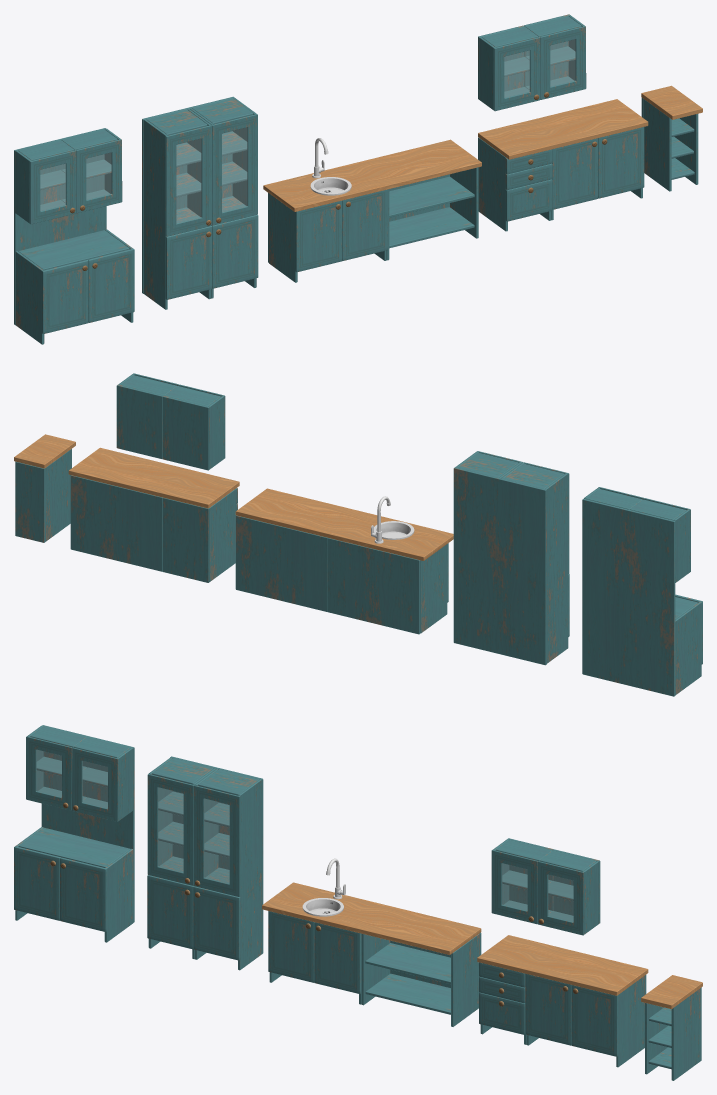
Rendered from modular_kitchen_cabinets.glb.
The picture shows the model from 3 angles, top to bottom: view 1: azimuth 30°, elevation 25°; view 2: azimuth 150°, elevation 25°; view 3: azimuth 330°, elevation 25°; orthographic projection.
Visible parts, largest first — view 1: Cabinet_FrontGlass_B.005, CabinetTable_A.004, Cabinet_FrontA.003, Cabinet_FrontA.004, Cabinet_FrontGlass_A.005, Cabinet_FrontGlass_A.006, Cabinet_FrontA.006, Cabinet_FrontA.005, CabinetTable_B.002, Cabinet_Side_A.003, Cabinet_Back_A.006, Cabinet_Shelf_A.004 (+24 smaller); view 2: Cabinet_Back_A.005, Cabinet_Back_A.006, Cabinet_Back_B.003, Cabinet_Back_B.004, Cabinet_Back_B.005, Cabinet_Back_D.003, CabinetTable_A.004, CabinetTable_B.002, Cabinet_Side_A.003, Cabinet_Back_C.003, Cabinet_Back_E.003, Cabinet_Side_B.005 (+11 smaller); view 3: Cabinet_FrontGlass_B.005, CabinetTable_A.004, Cabinet_FrontA.003, Cabinet_FrontGlass_A.006, Cabinet_FrontA.004, Cabinet_FrontGlass_A.005, Cabinet_FrontA.005, Cabinet_FrontA.006, CabinetTable_B.002, Cabinet_Side_A.004, Cabinet_Back_A.006, Cabinet_Shelf_A.004 (+24 smaller).
Boxes of the visible parts, bbox=[...] form: Cabinet_FrontGlass_B.005: bbox=[165, 114, 257, 236]; CabinetTable_A.004: bbox=[263, 139, 481, 211]; Cabinet_FrontA.003: bbox=[165, 214, 258, 299]; Cabinet_FrontA.004: bbox=[42, 248, 134, 333]; Cabinet_FrontGlass_A.005: bbox=[30, 139, 122, 224]; Cabinet_FrontGlass_A.006: bbox=[494, 26, 586, 111]; Cabinet_FrontA.006: bbox=[295, 189, 387, 272]; Cabinet_FrontA.005: bbox=[552, 127, 644, 209]; CabinetTable_B.002: bbox=[478, 99, 648, 159]; Cabinet_Side_A.003: bbox=[144, 119, 167, 309]; Cabinet_Back_A.006: bbox=[14, 128, 106, 325]; Cabinet_Shelf_A.004: bbox=[18, 230, 129, 270]; Cabinet_Back_A.005: bbox=[453, 467, 546, 665]; Cabinet_Back_A.006: bbox=[582, 498, 675, 696]; Cabinet_Back_B.003: bbox=[327, 538, 420, 634]; Cabinet_Back_B.004: bbox=[235, 515, 327, 611]; Cabinet_Back_B.005: bbox=[70, 475, 162, 571]; Cabinet_Back_D.003: bbox=[116, 384, 209, 470]; CabinetTable_A.004: bbox=[235, 488, 453, 560]; CabinetTable_B.002: bbox=[68, 447, 239, 508]; Cabinet_Side_A.003: bbox=[545, 473, 568, 663]; Cabinet_Back_C.003: bbox=[162, 497, 209, 582]; Cabinet_Back_E.003: bbox=[15, 461, 45, 542]; Cabinet_Side_B.005: bbox=[675, 601, 701, 695]; Cabinet_FrontGlass_B.005: bbox=[147, 774, 240, 897]; CabinetTable_A.004: bbox=[262, 882, 481, 954]; Cabinet_FrontA.003: bbox=[147, 875, 240, 960]; Cabinet_FrontGlass_A.006: bbox=[491, 850, 584, 935]; Cabinet_FrontA.004: bbox=[14, 846, 106, 931]; Cabinet_FrontGlass_A.005: bbox=[26, 736, 118, 821]; Cabinet_FrontA.005: bbox=[525, 973, 618, 1056]; Cabinet_FrontA.006: bbox=[268, 911, 361, 993]; CabinetTable_B.002: bbox=[477, 935, 648, 995]; Cabinet_Side_A.004: bbox=[238, 779, 261, 970]; Cabinet_Back_A.006: bbox=[41, 725, 134, 922]; Cabinet_Shelf_A.004: bbox=[19, 827, 130, 867].
Size of the model in its own units: 7.89 by 2 by 0.65.
3 materials, 2 textured.
